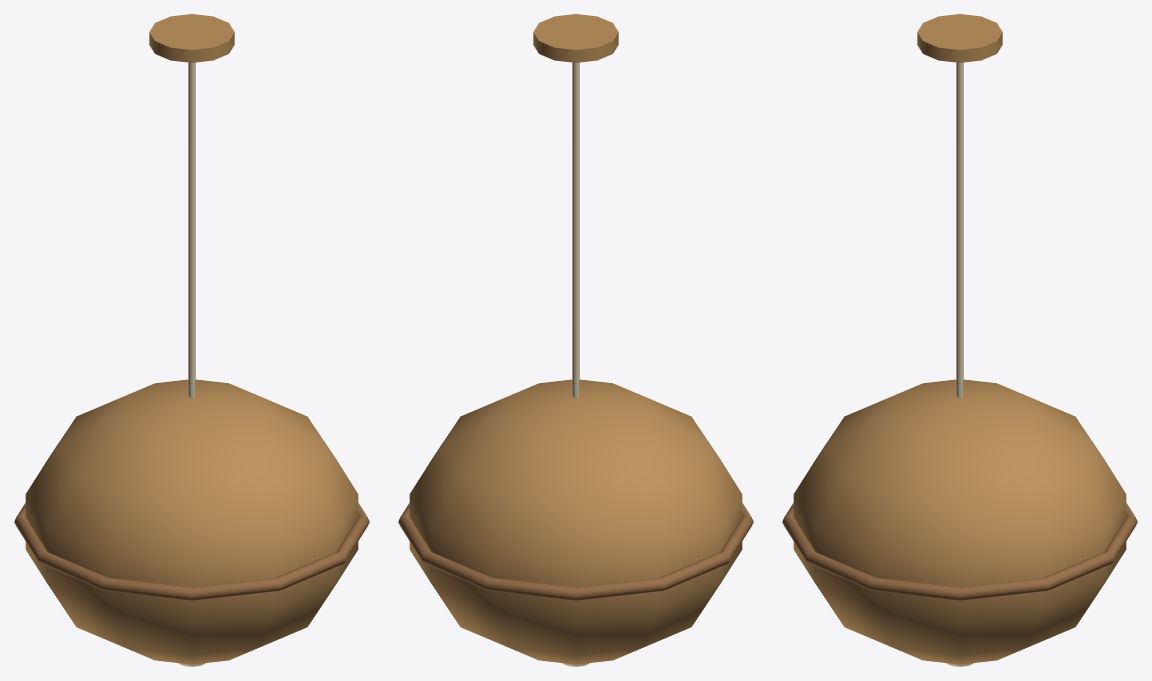
File: pendant_rattan.glb
The picture shows the model from 3 angles, left to right: view 1: azimuth 30°, elevation 25°; view 2: azimuth 150°, elevation 25°; view 3: azimuth 270°, elevation 25°; orthographic projection.
Visible parts, largest first — view 1: Part2, Part3, Part0, Part1; view 2: Part2, Part3, Part0, Part1; view 3: Part2, Part3, Part0, Part1.
Boxes of the visible parts, left/top/right/bottom form: Part2: left=25, top=379, right=358, bottom=664; Part3: left=14, top=503, right=369, bottom=600; Part0: left=149, top=14, right=234, bottom=62; Part1: left=188, top=62, right=195, bottom=397; Part2: left=409, top=379, right=742, bottom=664; Part3: left=398, top=503, right=753, bottom=600; Part0: left=533, top=14, right=618, bottom=62; Part1: left=572, top=62, right=579, bottom=397; Part2: left=793, top=379, right=1126, bottom=664; Part3: left=782, top=503, right=1137, bottom=600; Part0: left=917, top=14, right=1002, bottom=62; Part1: left=956, top=62, right=963, bottom=397.
Bounding box in the file's own units: 0.5 × 0.98 × 0.5.
